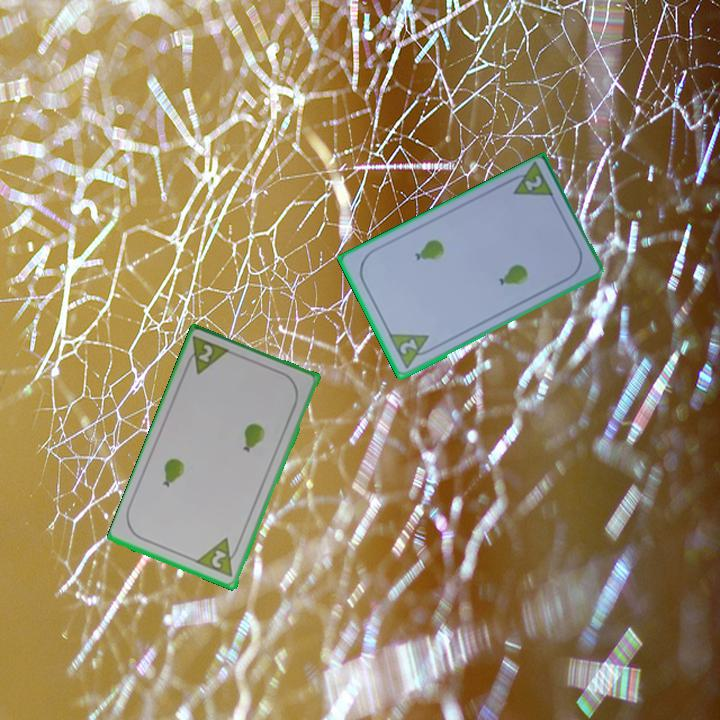2p: (181, 333, 234, 378), (194, 535, 243, 581), (385, 330, 437, 372), (520, 172, 545, 194)
